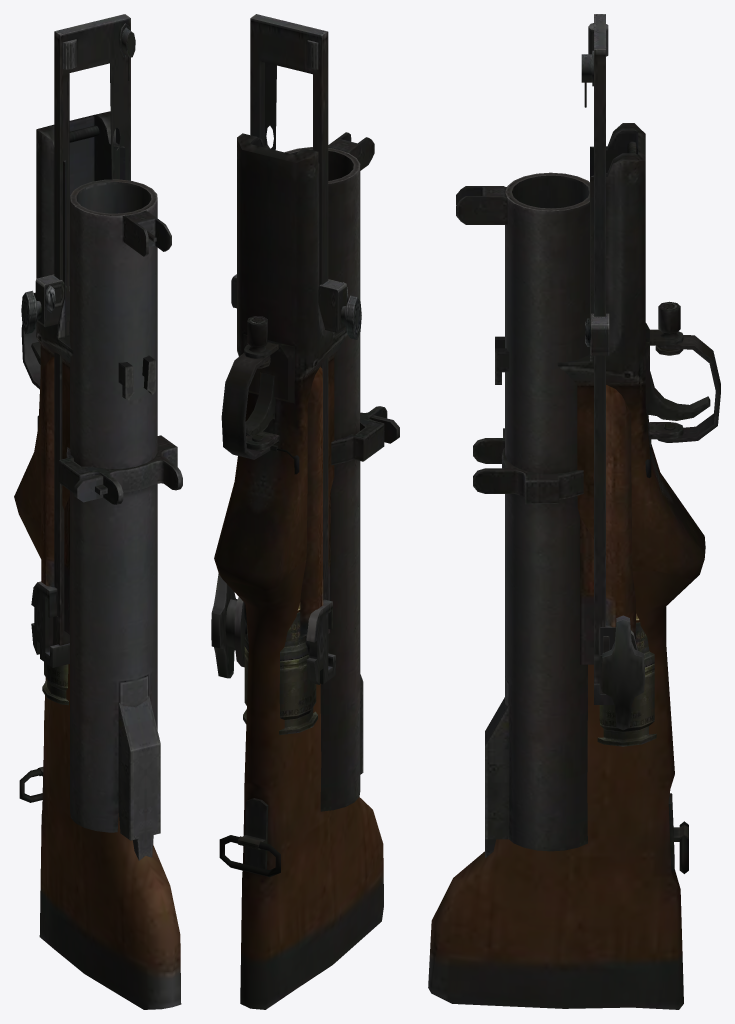
3 renders of one model, left to right at view 1: azimuth 30°, elevation 25°; view 2: azimuth 150°, elevation 25°; view 3: azimuth 270°, elevation 25°, orthographic. The views are drawn at different scales.
Parts seen in each view (by area): view 1: M79_barrel, M79_body, M79_sight, Model_Grenade; view 2: M79_body, M79_barrel, M79_sight, Model_Grenade; view 3: M79_body, M79_barrel, M79_sight, Model_Grenade.
Part boxes in pixels (x1,y1,x2,y2): M79_barrel: (37,179,182,860); M79_body: (14,111,181,1009); M79_sight: (21,14,135,667); Model_Grenade: (42,662,68,705); M79_body: (214,133,383,1009); M79_barrel: (238,132,399,811); M79_sight: (211,14,361,684); Model_Grenade: (243,602,317,734); M79_body: (428,123,720,1009); M79_barrel: (456,172,651,857); M79_sight: (581,14,644,730); Model_Grenade: (597,613,656,746).
Size of the model in its own units: 0.0783 by 0.5566 by 0.1518.
2 materials, 2 textured.
